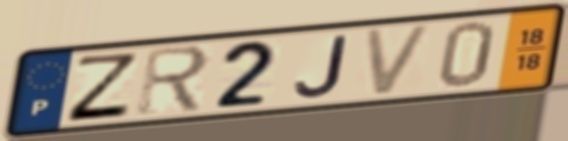0: (434, 18, 497, 91)
2: (209, 38, 279, 112)
J: (291, 33, 351, 100)
R: (134, 43, 213, 117)
V: (361, 21, 438, 100)
Z: (62, 52, 142, 124)
